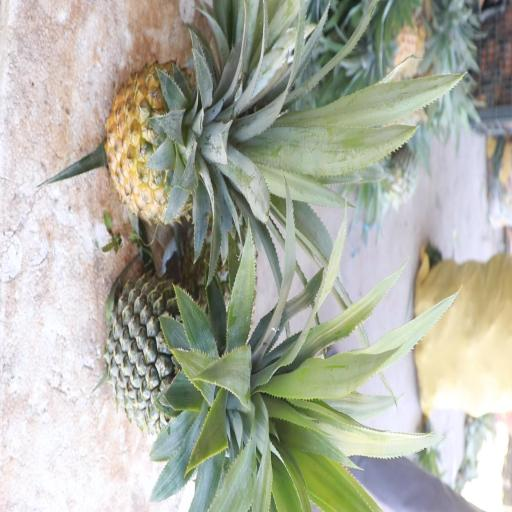Pineapple - v8 v1: (103, 56, 306, 230)
